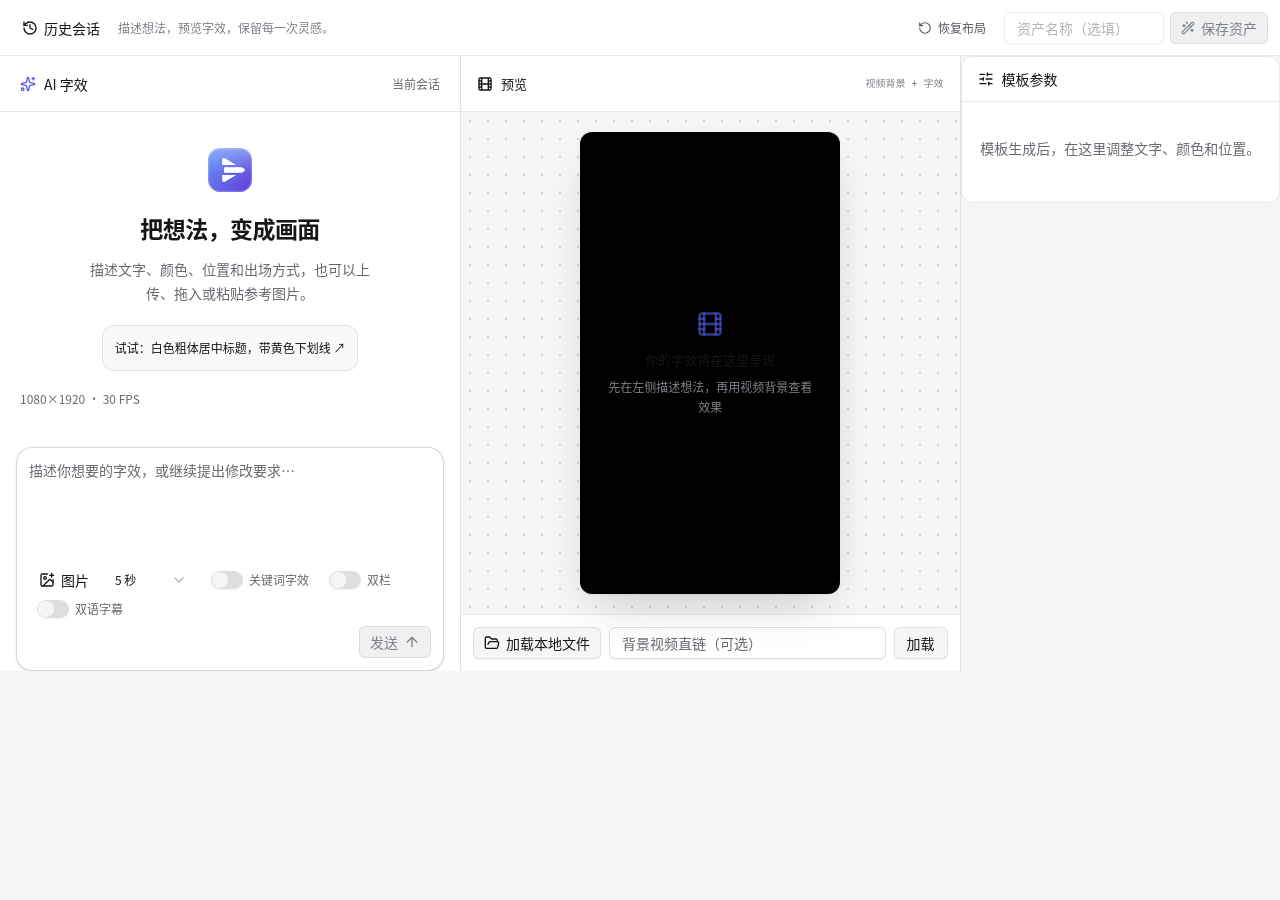
新会话钉死固定画布并发送固定初始配置
Expected: the text named "生成配置" reads "1080×1920 · 30 FPS", [20, 390, 140, 407]
Expected: the dropdown named "预览时长" reads "5 秒", [103, 564, 199, 596]
Type "生成标题" into the text box named "字效描述" at (230, 508), box [29, 460, 431, 556]
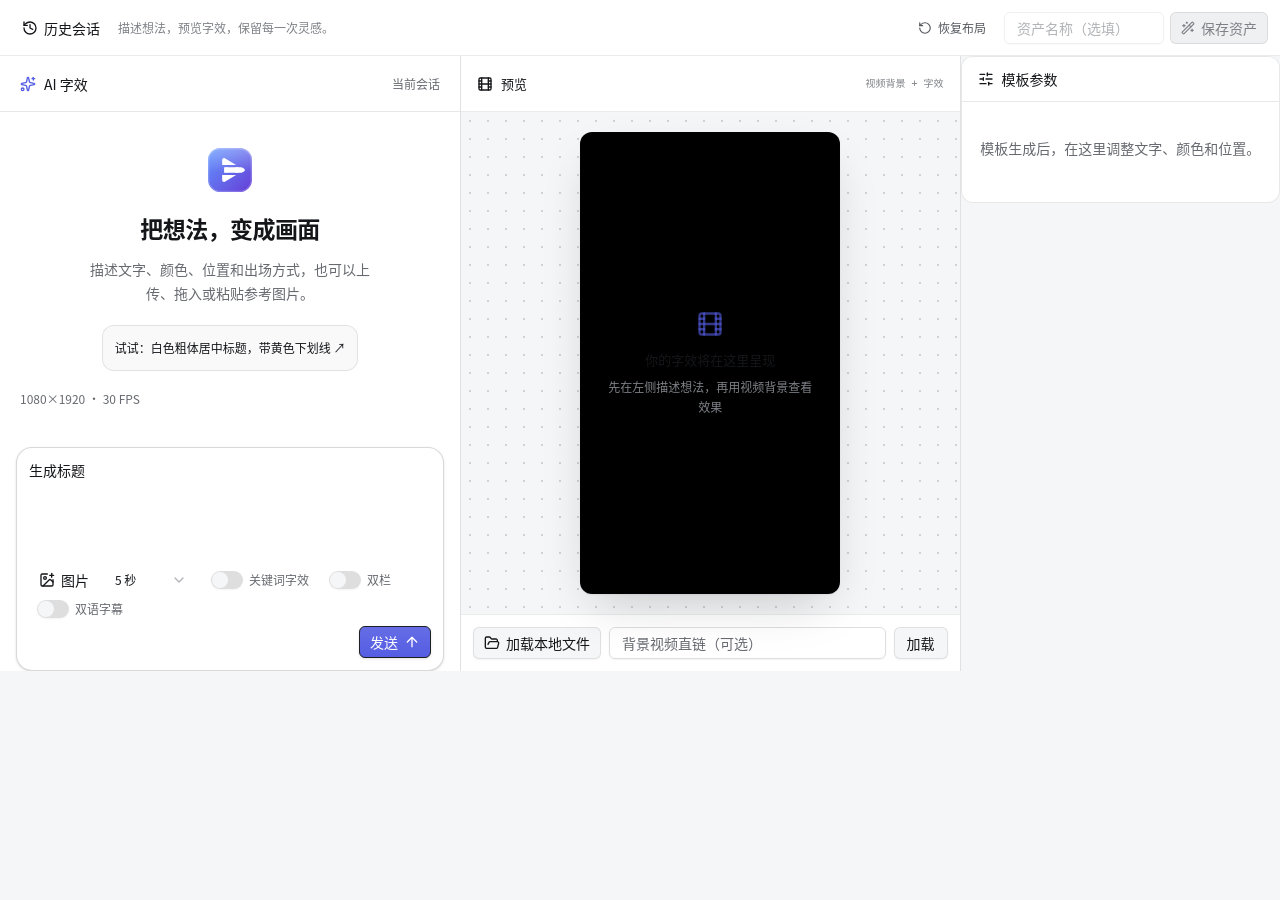
Note: 等待创建响应更新会话；请求已发出不代表 React 已完成状态更新。
Click the button "发送" at (395, 642), box [359, 626, 431, 658]
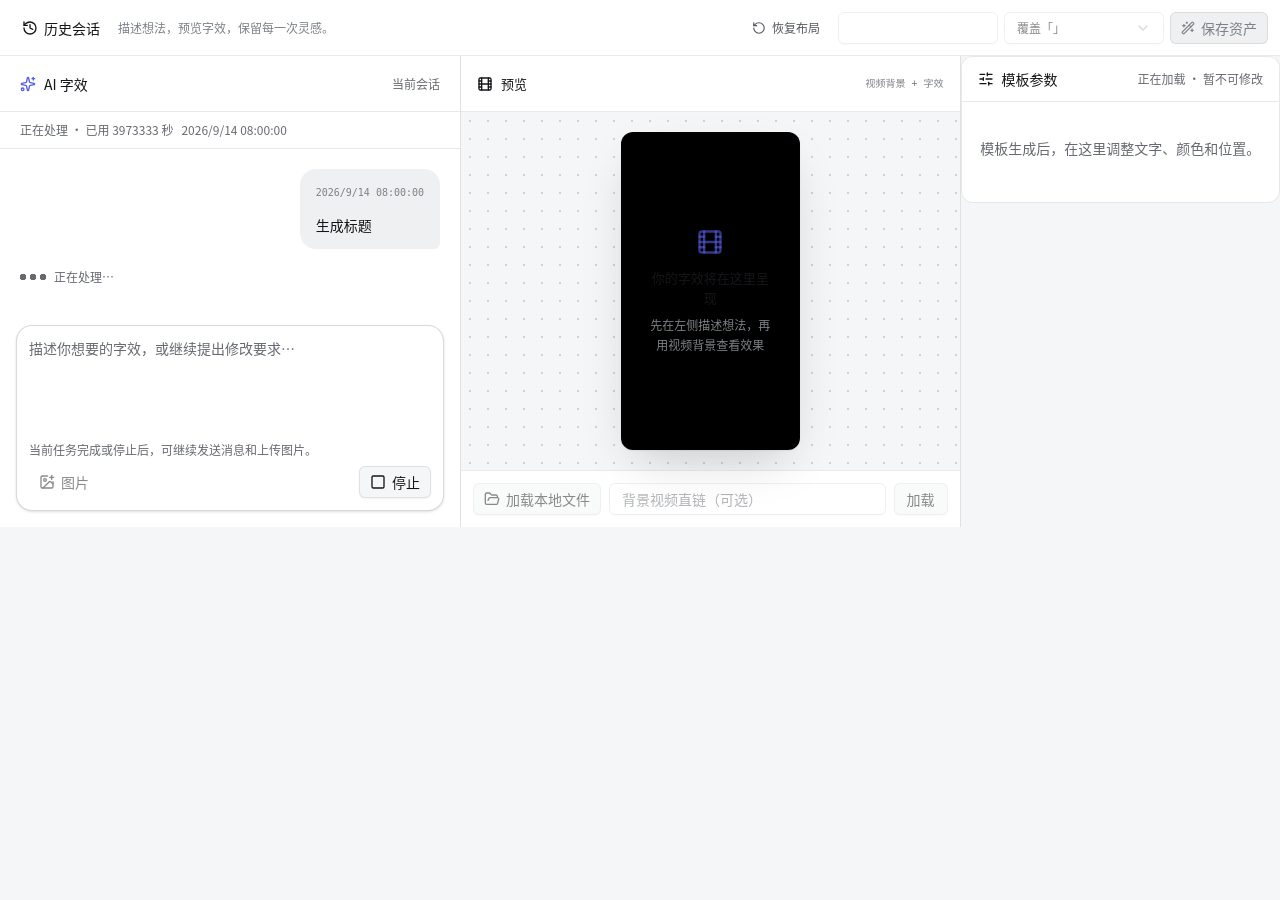
Now the button "停止" is shown, box [359, 466, 431, 498]
Now the button "图片" is disabled, box [29, 466, 99, 498]
